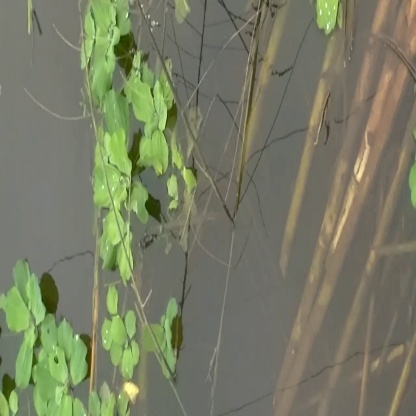branch: (283, 37, 352, 276)
